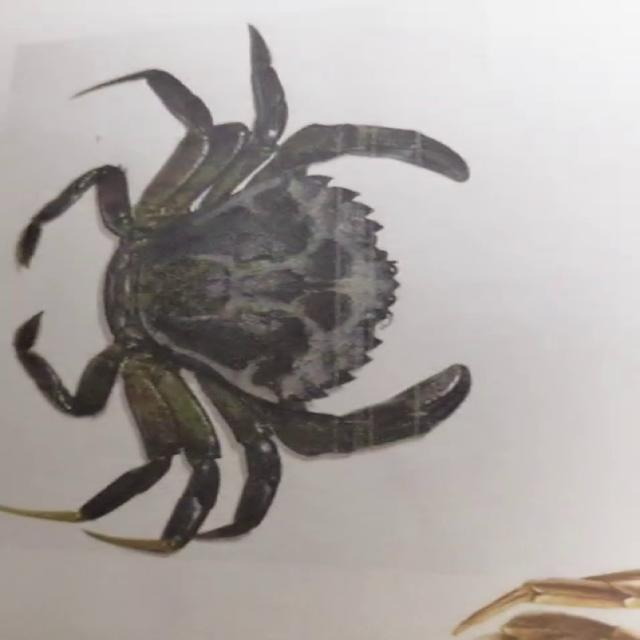egc: (0, 25, 470, 553)
